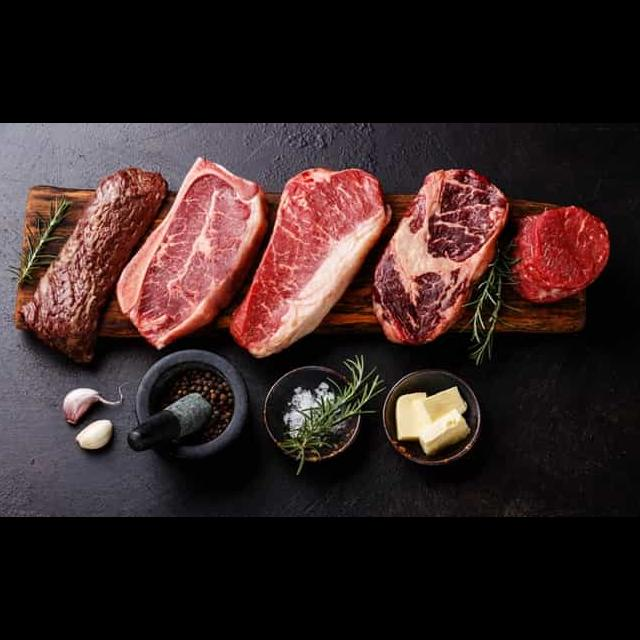beef: (229, 165, 392, 359), (115, 155, 269, 349), (371, 167, 510, 347), (512, 204, 611, 305)
